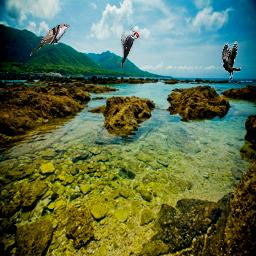Crow: (222, 41, 241, 81)
Cuckoo: (30, 23, 70, 56)
Woodpecker: (121, 28, 140, 68)
